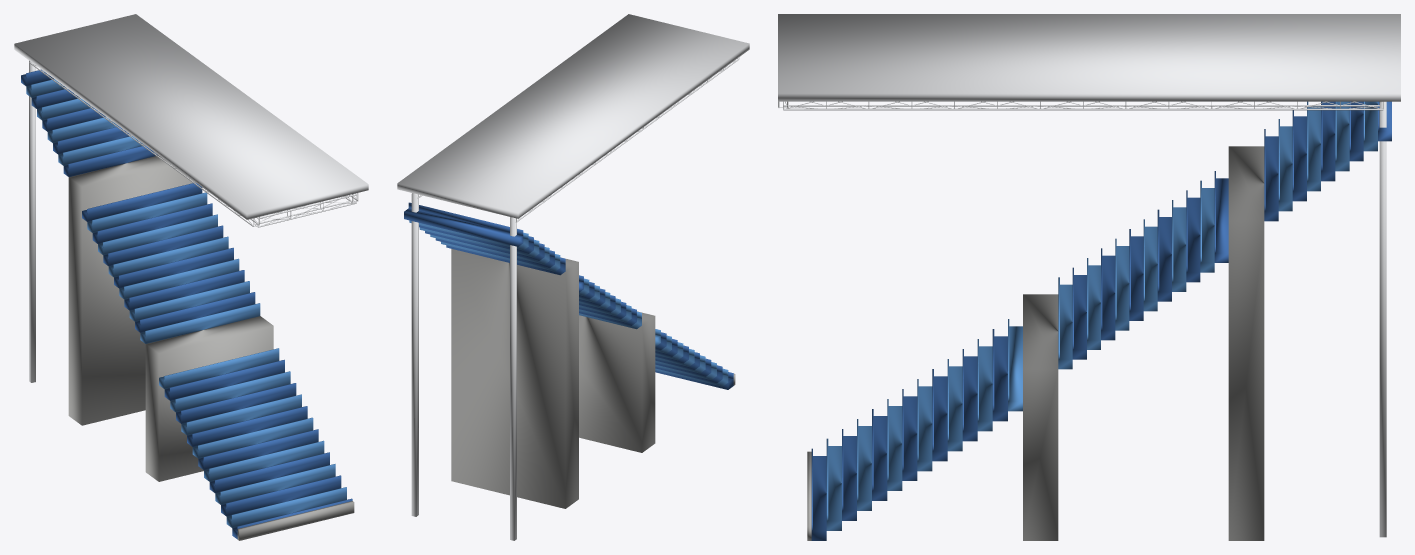
File: bay_10m_stadium_roof.glb
The picture shows the model from 3 angles, left to right: view 1: azimuth 30°, elevation 25°; view 2: azimuth 150°, elevation 25°; view 3: azimuth 270°, elevation 25°; orthographic projection. The views are drawn at different scales.
Visible parts, largest first — view 1: bay_10m_stadium_roof; view 2: bay_10m_stadium_roof; view 3: bay_10m_stadium_roof.
Boxes of the visible parts, box(x1,y1,x2,y2) form: bay_10m_stadium_roof: box(14, 14, 368, 540); bay_10m_stadium_roof: box(397, 14, 749, 540); bay_10m_stadium_roof: box(778, 14, 1400, 540).
Size of the model in its own units: 10.6 by 27.96 by 35.1.
